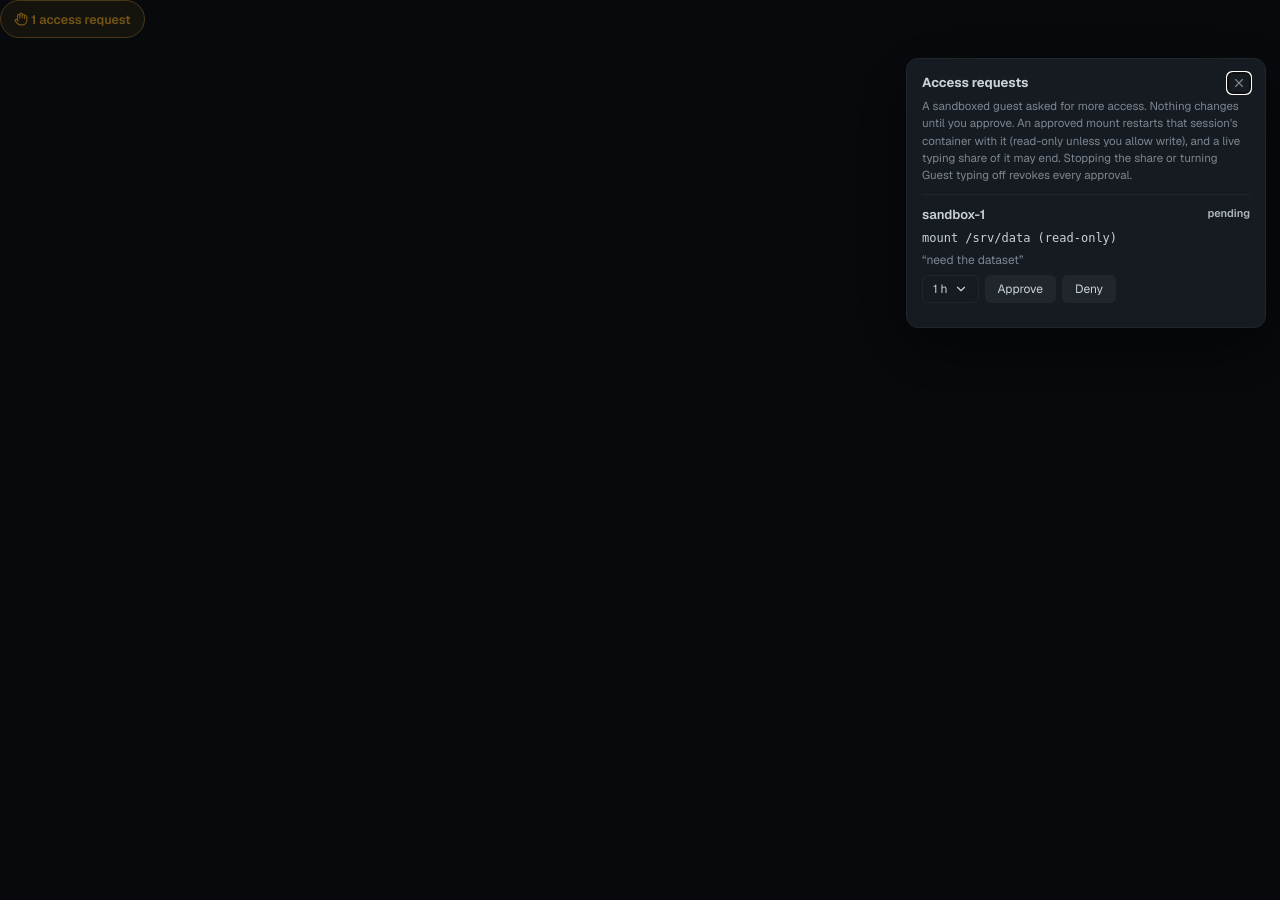
Test: a successful decision refetches the list
What coordinates should you click on to do the following:
click the button with class "ar-deny"
I would click on:
 (1089, 289)
Its box is [1062,275,1116,303].
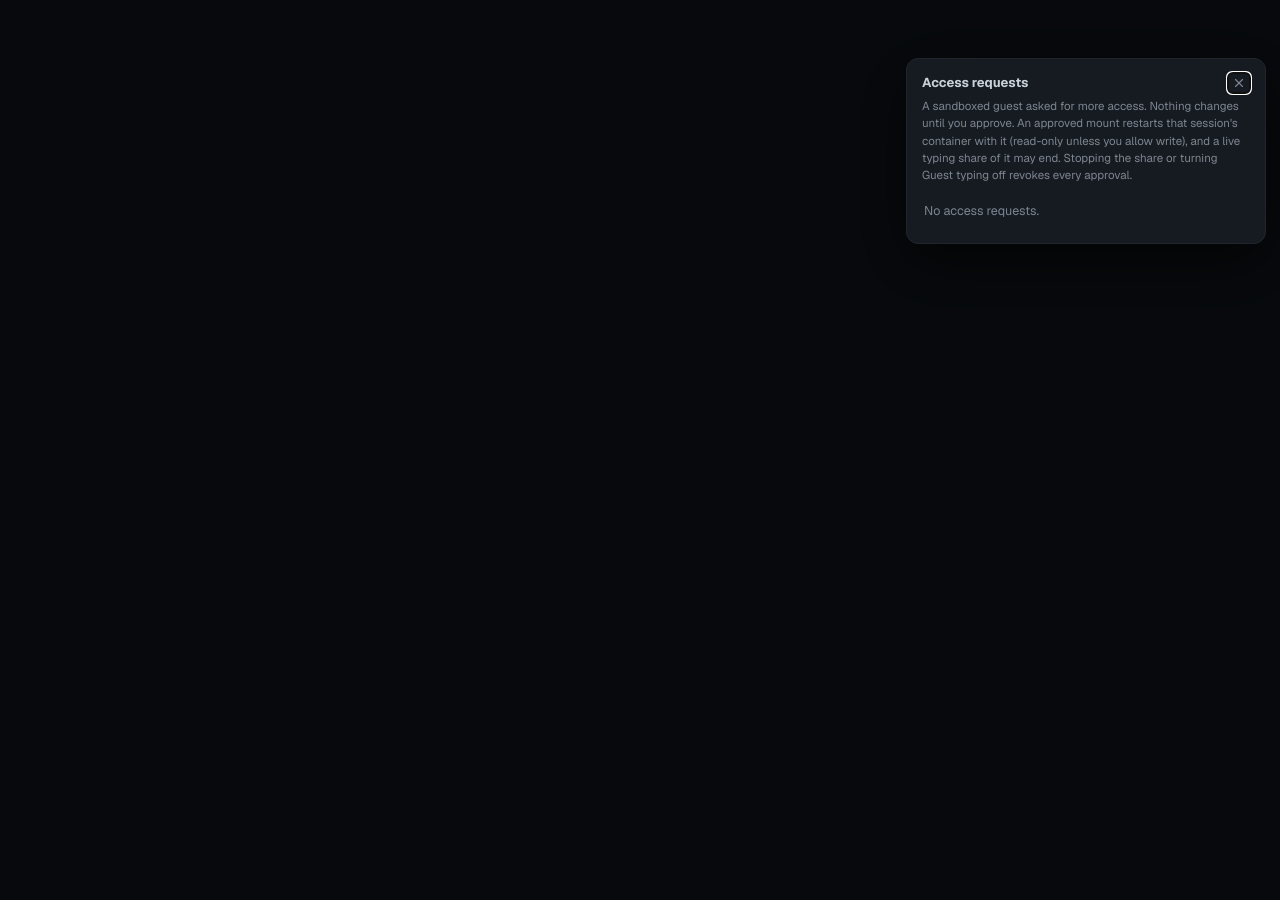
Result: the text with class "ss-empty" reads "No access requests." at [924,202,1039,219]
